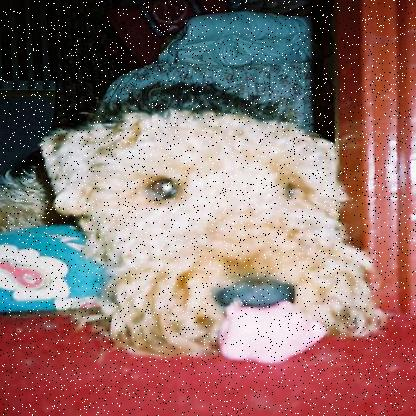dog: (20, 92, 386, 385)
